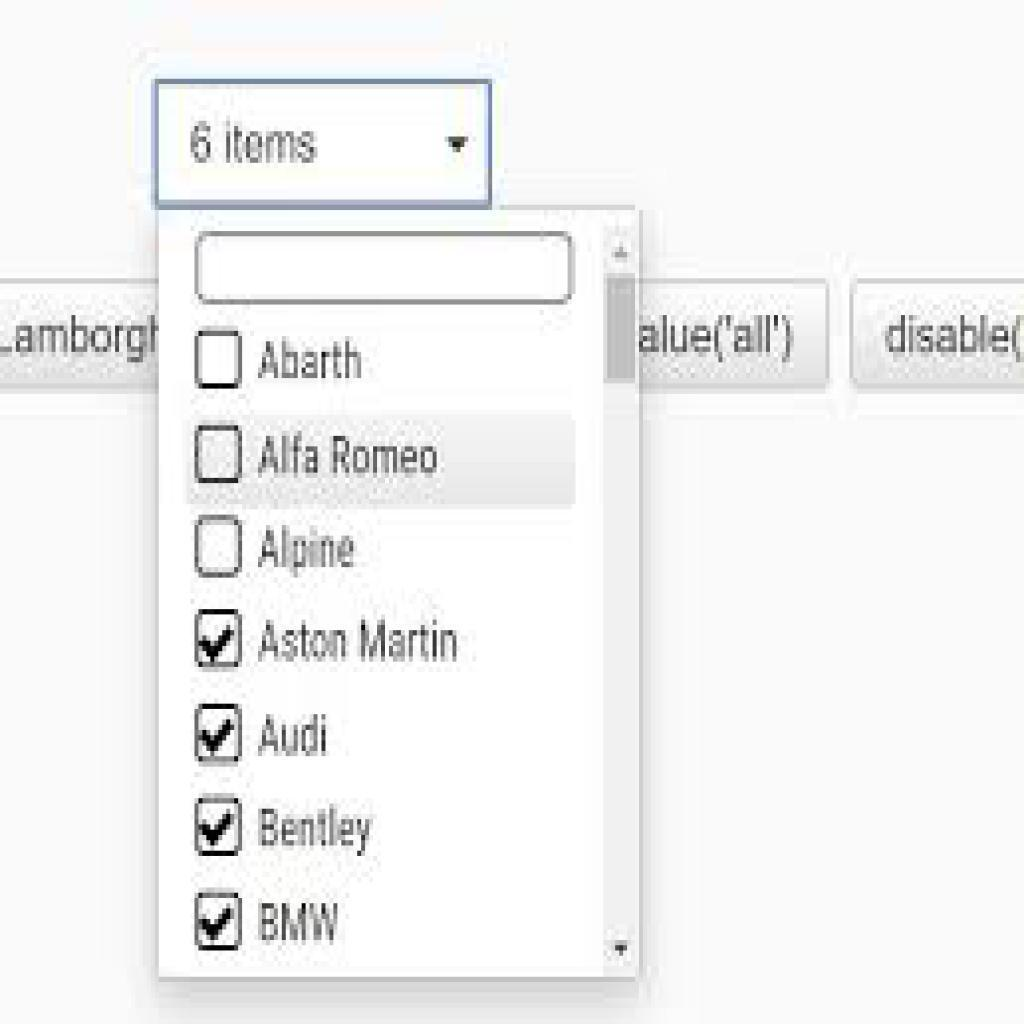checkbox: (196, 706, 244, 768), (194, 799, 244, 855), (196, 894, 245, 951), (195, 519, 243, 576), (195, 332, 243, 388), (198, 610, 242, 669), (197, 426, 242, 482)
dropdown: (153, 84, 492, 206)
input: (195, 235, 573, 304)
